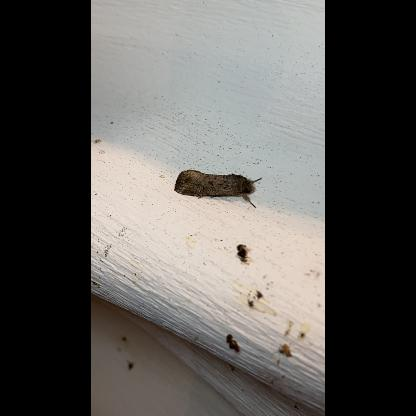Fall Armyworm Moth: (172, 168, 264, 210)
